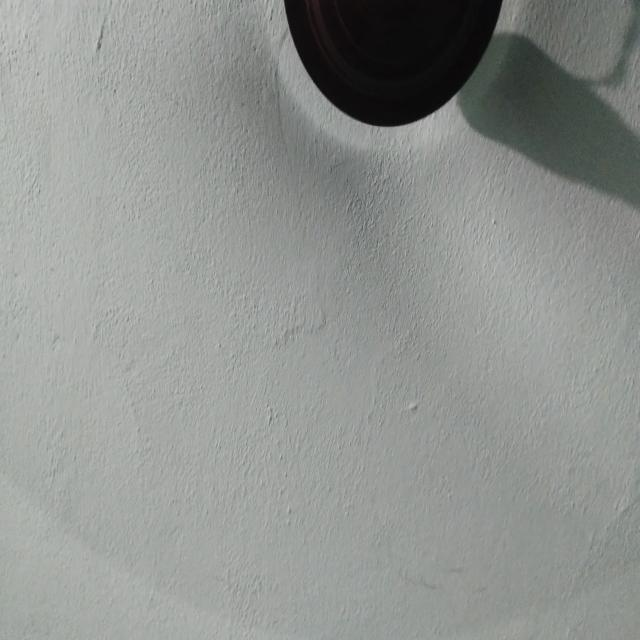fan_on: (22, 0, 638, 259)
